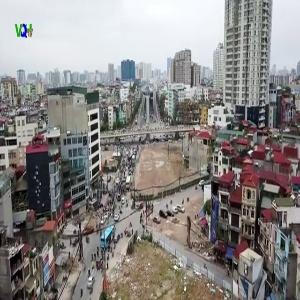drone: (224, 137, 266, 179)
